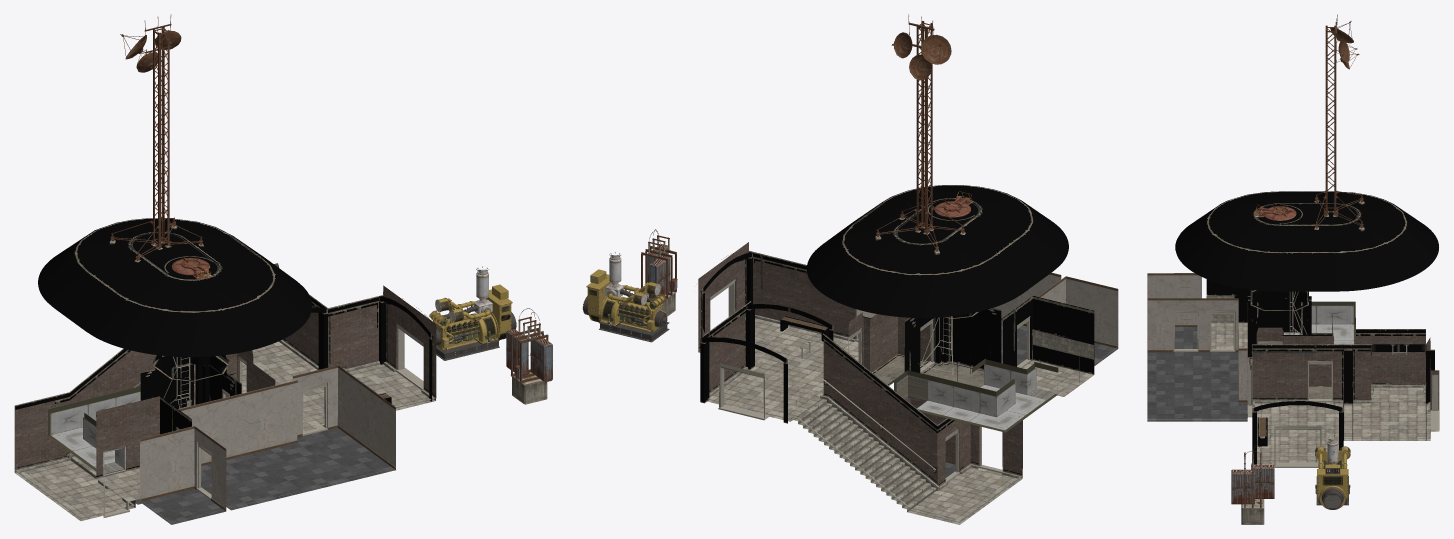
The model's file is entrance_bunker_b-close.glb.
3 renders of one model, left to right at view 1: azimuth 30°, elevation 25°; view 2: azimuth 150°, elevation 25°; view 3: azimuth 270°, elevation 25°, orthographic. The views are drawn at different scales.
Parts seen in each view (by area): view 1: stairwell_top_country_b_LOD0, antena_helipad_mast_LOD0, diesel_engine_LOD0, substation_c_LOD0, bunker_hatch; view 2: stairwell_top_country_b_LOD0, antena_helipad_mast_LOD0, diesel_engine_LOD0, substation_c_LOD0, bunker_hatch; view 3: stairwell_top_country_b_LOD0, antena_helipad_mast_LOD0, diesel_engine_LOD0, substation_c_LOD0, bunker_hatch.
Boxes of the visible parts, left/top/right/bottom form: stairwell_top_country_b_LOD0: left=14, top=218, right=440, bottom=524; antena_helipad_mast_LOD0: left=109, top=14, right=548, bottom=404; diesel_engine_LOD0: left=429, top=266, right=516, bottom=360; substation_c_LOD0: left=506, top=308, right=552, bottom=382; bunker_hatch: left=172, top=257, right=212, bottom=280; stairwell_top_country_b_LOD0: left=698, top=185, right=1118, bottom=524; antena_helipad_mast_LOD0: left=641, top=14, right=965, bottom=316; diesel_engine_LOD0: left=582, top=252, right=669, bottom=342; substation_c_LOD0: left=647, top=229, right=677, bottom=298; bunker_hatch: left=934, top=191, right=973, bottom=217; stairwell_top_country_b_LOD0: left=1147, top=191, right=1439, bottom=467; antena_helipad_mast_LOD0: left=1241, top=14, right=1364, bottom=524; diesel_engine_LOD0: left=1315, top=436, right=1350, bottom=509; substation_c_LOD0: left=1231, top=445, right=1274, bottom=504; bunker_hatch: left=1253, top=204, right=1296, bottom=220.
Size of the model in its own units: 24.93 by 24.6 by 16.
22 materials, 21 textured.
